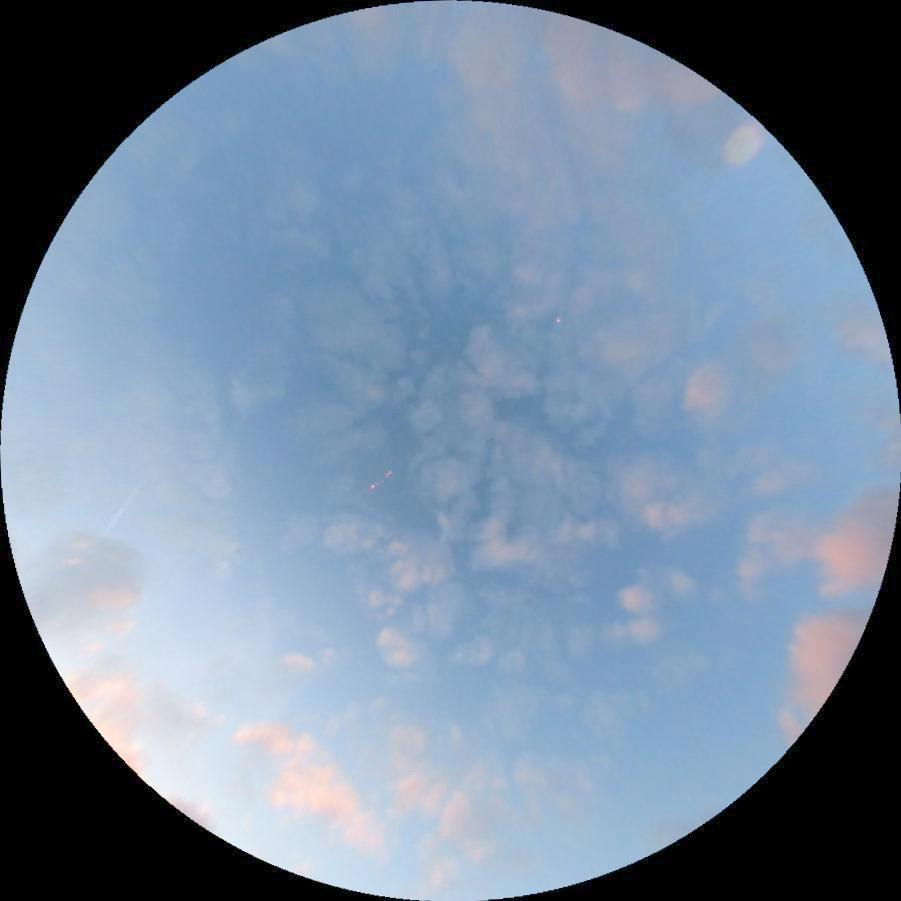contrail young: (99, 481, 145, 539)
